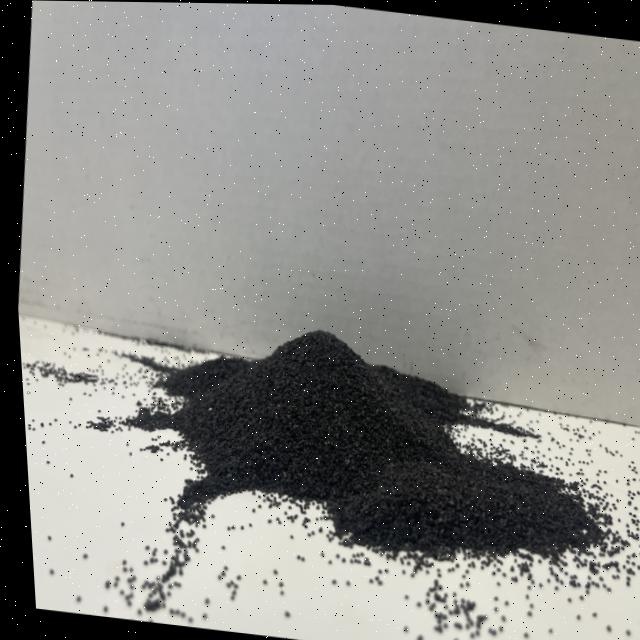Poppy Seeds: (105, 254, 609, 592)
